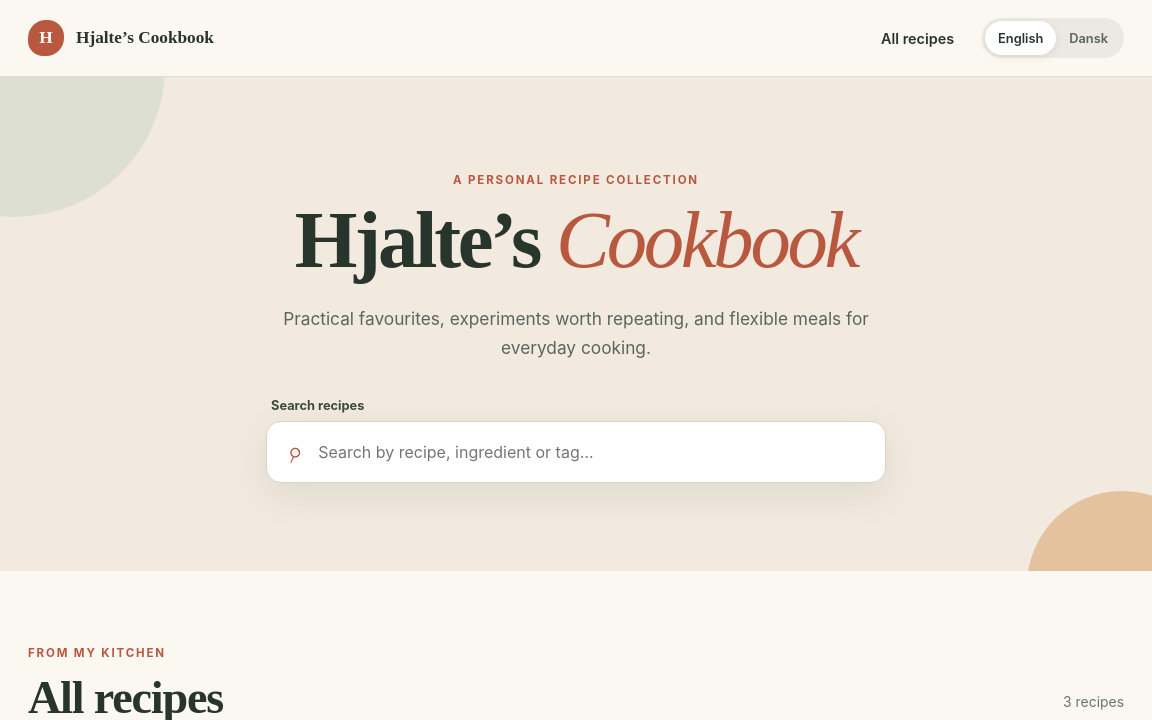
Test: Hjalte’s Cookbook › searches recipe titles and ingredients instantly
Type "falafel" into the search field labelled "Search recipes".
click(591, 452); type("falafel")  # box x1=316 y1=422 x2=865 y2=482
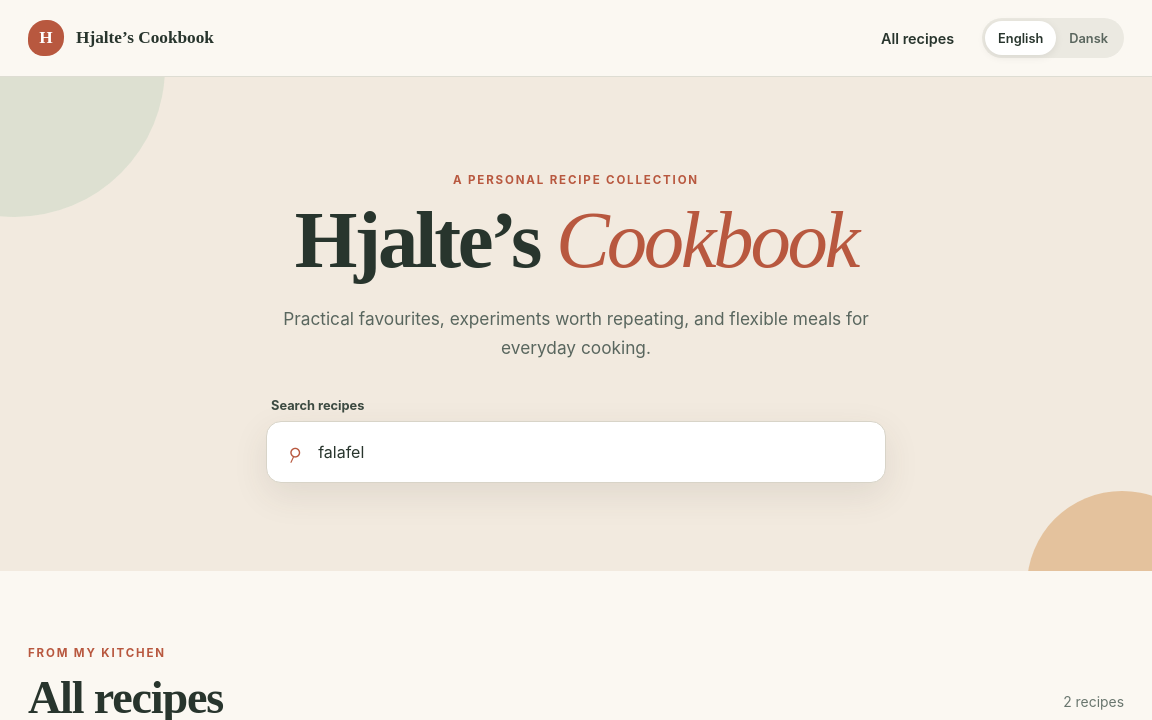
Result: the text "2 recipes" is shown at x1=1063 y1=694 x2=1124 y2=710
Replace the text in the search field labelled "Search recipes" with "quinoa" at (591,452), box x1=316 y1=422 x2=865 y2=482
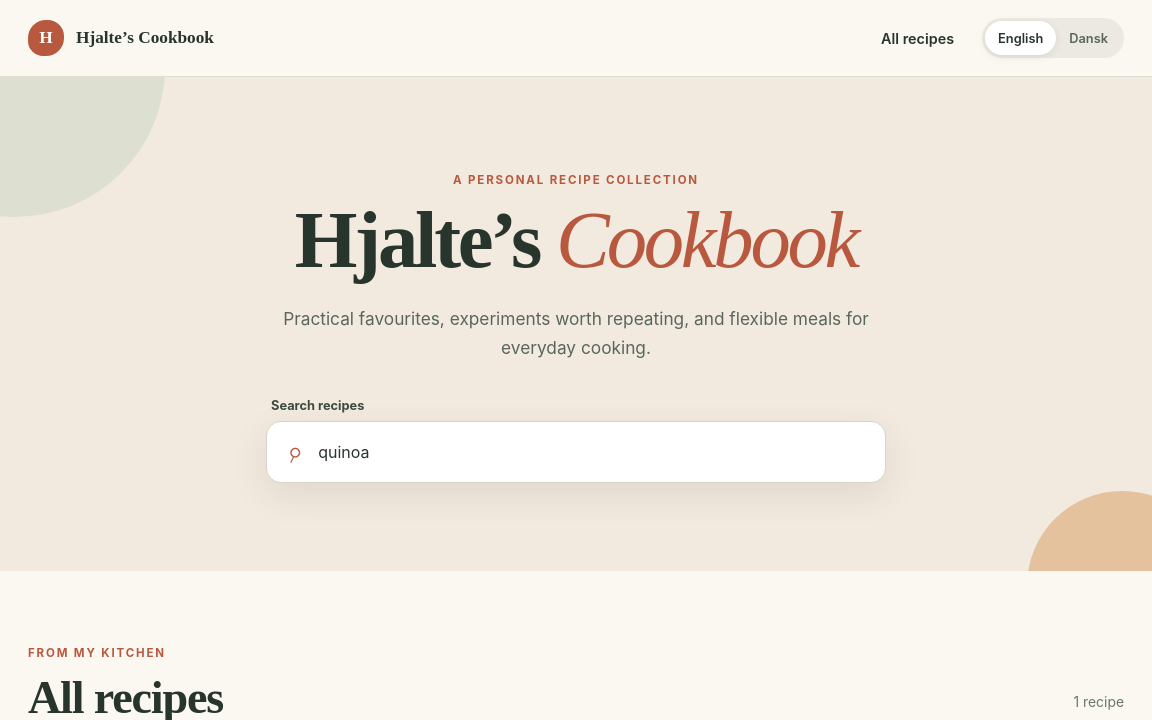
Result: the text "1 recipe" is shown at x1=1073 y1=694 x2=1124 y2=710
Replace the text in the search field labelled "Search recipes" with "pizza" at (591,452), box x1=316 y1=422 x2=865 y2=482
(page scrolled)
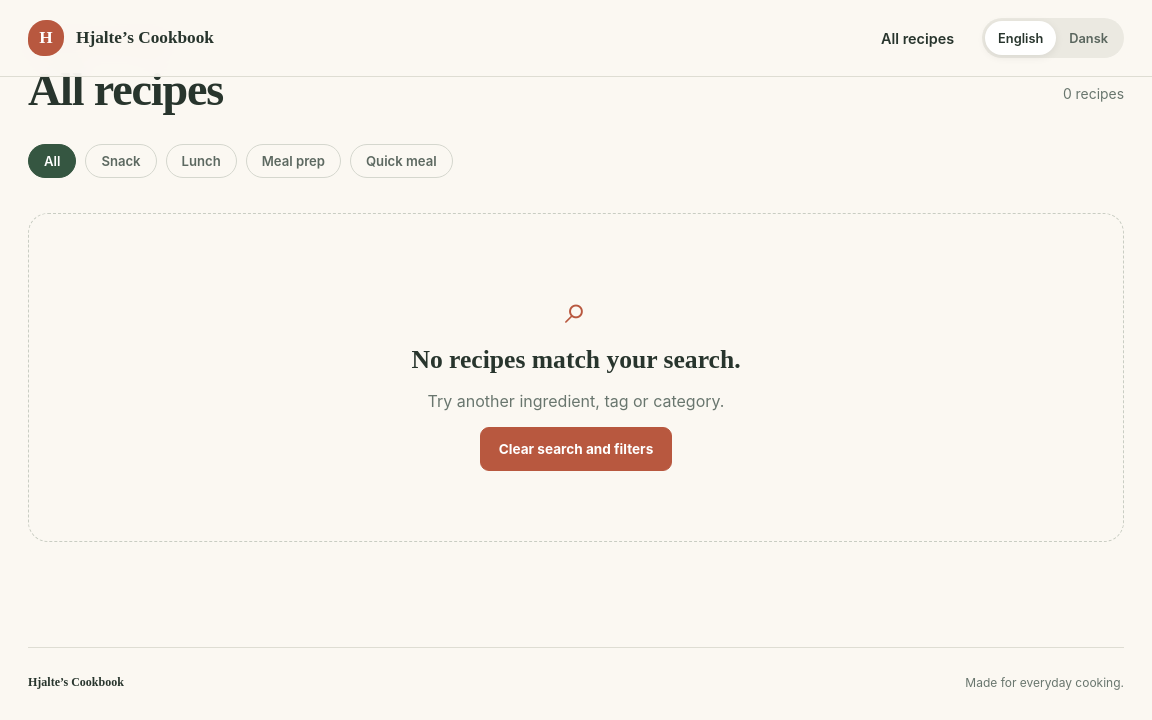
Result: the heading "No recipes match your search." is shown at x1=411 y1=345 x2=740 y2=374
